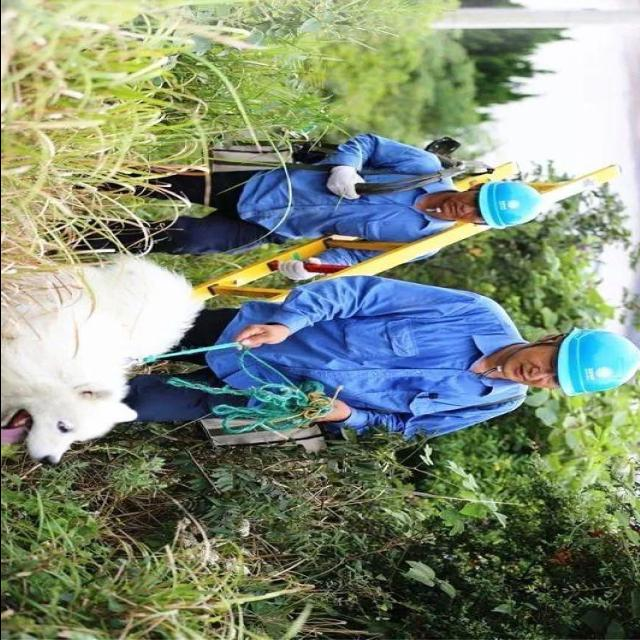helmet: (552, 318, 640, 402), (476, 173, 548, 234)
